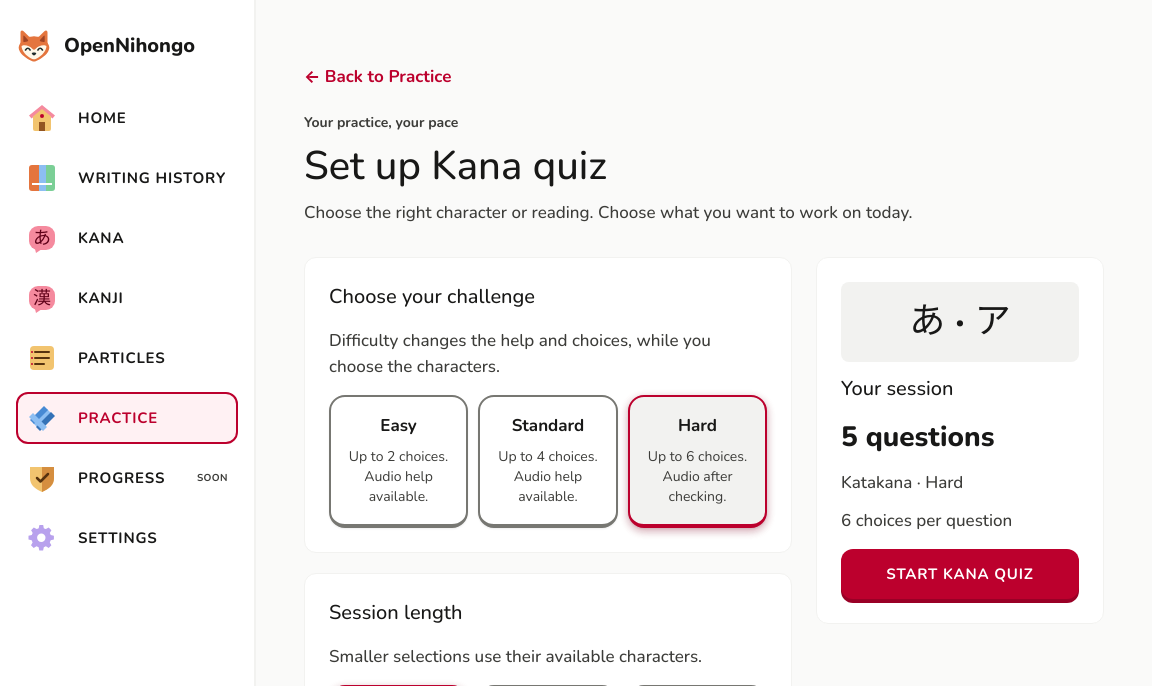
Scenario: supports six quiz choices and their fifth and sixth keyboard shortcuts
The width and height of the screenshot is (1152, 686).
expect the heading "Set up Kana quiz" is shown: met, box [304,139,607,193]
Click the button "Start Kana quiz". click: (960, 574)
box: [841,549,1079,599]
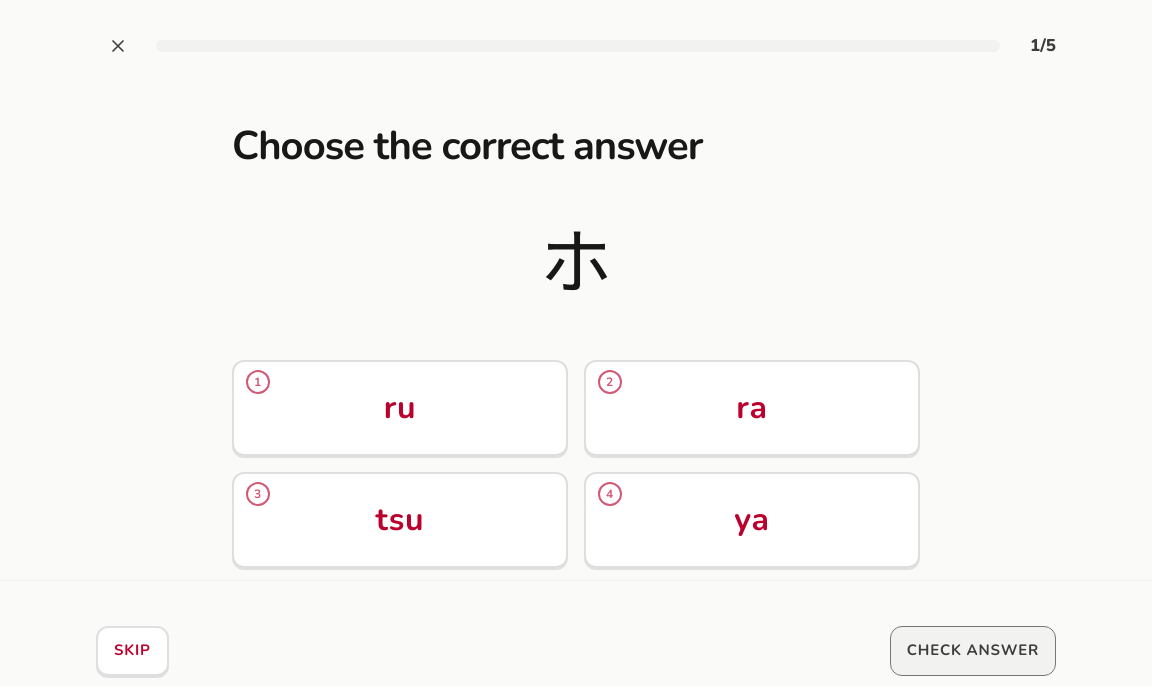
expect the number of buttons is 6: met
Type keys "5"
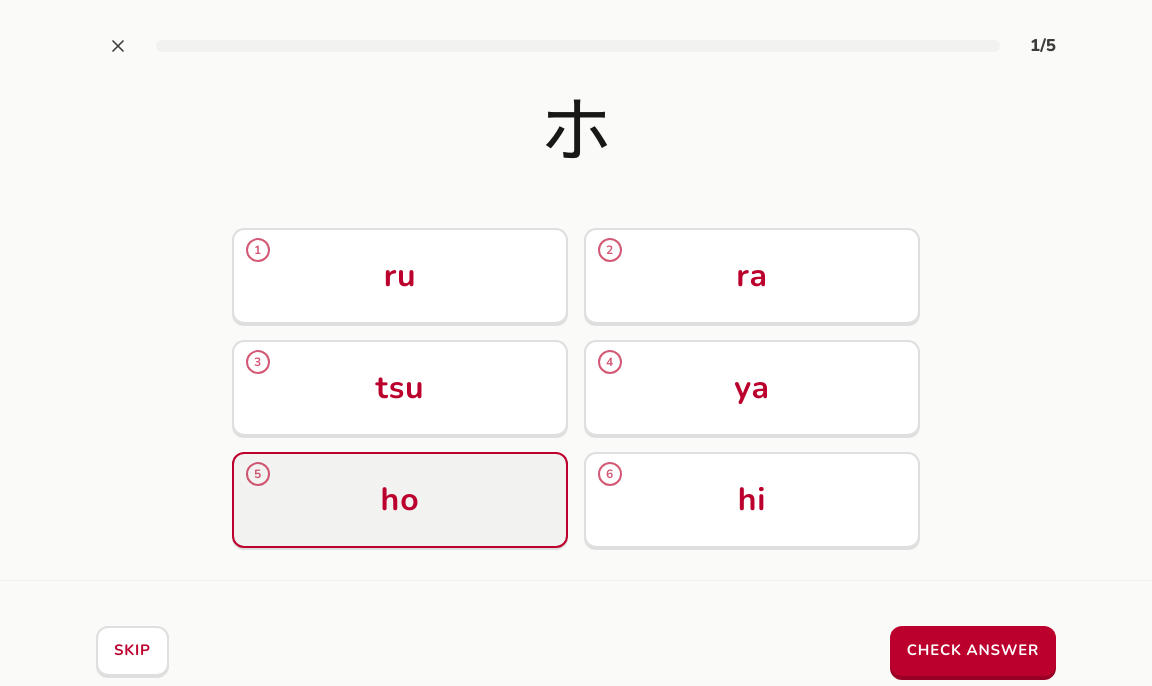
Type keys "6"
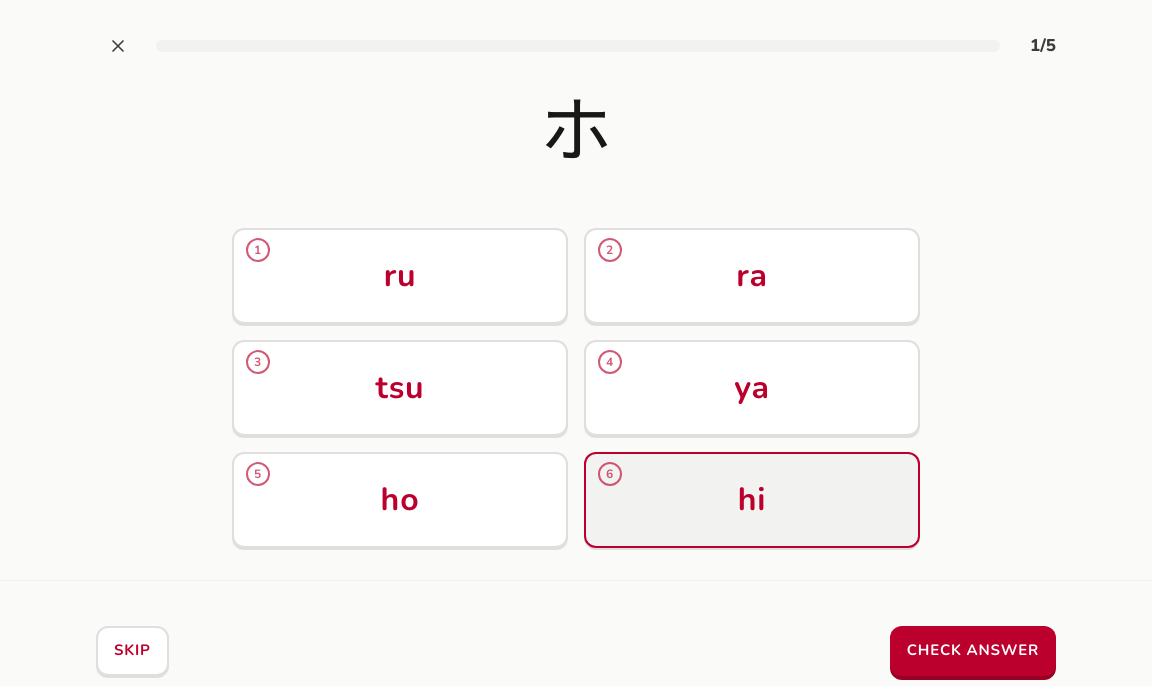
expect the button "6 hi" is pressed: met, box [584,452,920,548]
Press Enter
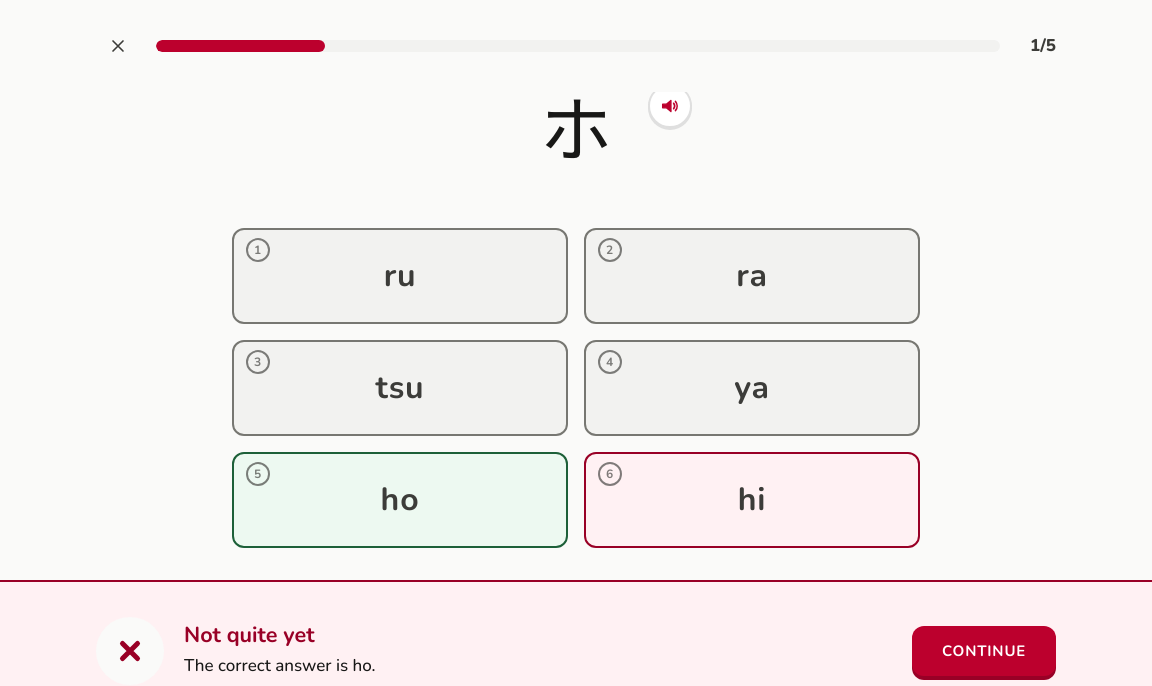
expect the button named "Play pronunciation" is shown: met, box [648,92,692,128]
